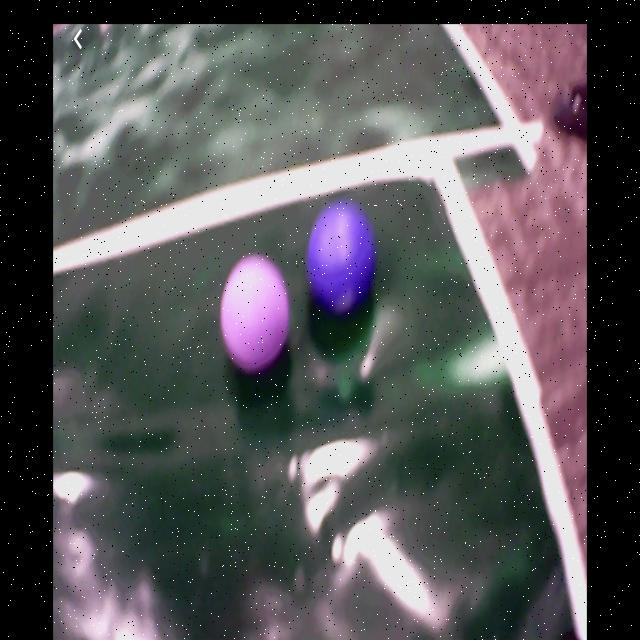ball: (310, 201, 375, 316), (222, 258, 288, 370)
